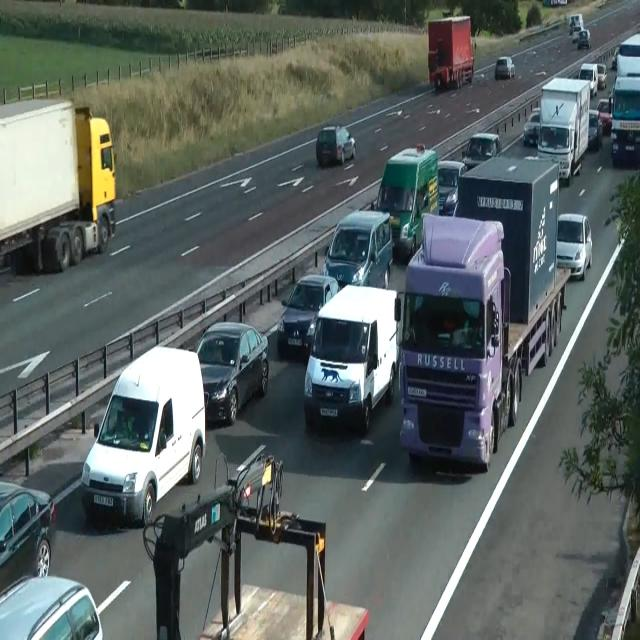bus: (192, 320, 268, 426), (0, 573, 103, 639), (0, 480, 54, 579), (277, 274, 339, 359), (556, 212, 592, 280), (316, 125, 356, 167), (437, 159, 467, 215), (462, 132, 500, 170), (522, 108, 540, 146), (587, 110, 603, 150), (596, 98, 612, 134), (495, 56, 515, 79), (442, 187, 458, 215), (568, 13, 584, 35), (577, 28, 591, 49), (597, 63, 607, 89), (572, 25, 582, 43), (611, 47, 619, 69), (542, 0, 567, 6), (608, 90, 613, 116)
car: (146, 443, 368, 638)
jeep: (80, 343, 206, 528), (303, 283, 401, 433), (322, 208, 393, 289), (578, 62, 598, 97)
minibus: (398, 154, 570, 470), (0, 97, 116, 275), (454, 154, 560, 323), (372, 142, 439, 263), (536, 76, 590, 185), (427, 15, 475, 90), (610, 76, 640, 167), (616, 32, 640, 76)
